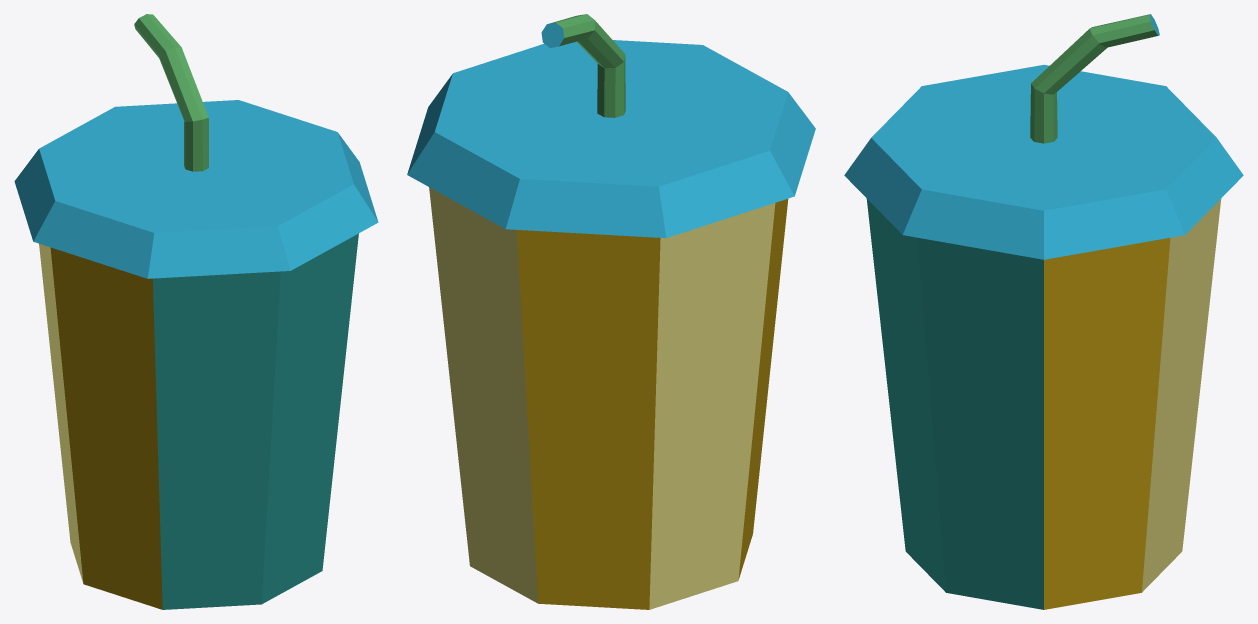
Rendered from Cup01.fbx.
3 renders of one model, left to right at view 1: azimuth 30°, elevation 25°; view 2: azimuth 150°, elevation 25°; view 3: azimuth 270°, elevation 25°, orthographic. The views are drawn at different scales.
Visible parts, largest first — view 1: Cup01.001; view 2: Cup01.001; view 3: Cup01.001.
Part boxes in pixels (left/top/right/bottom): Cup01.001: left=14, top=14, right=378, bottom=609; Cup01.001: left=407, top=14, right=815, bottom=609; Cup01.001: left=844, top=14, right=1243, bottom=609.
Size of the model in its own units: 289 by 428 by 289.
